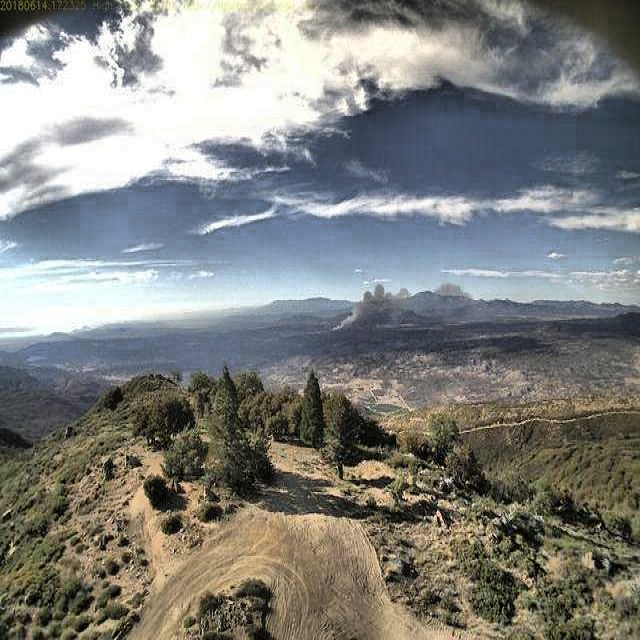smoke: (329, 280, 433, 329)
